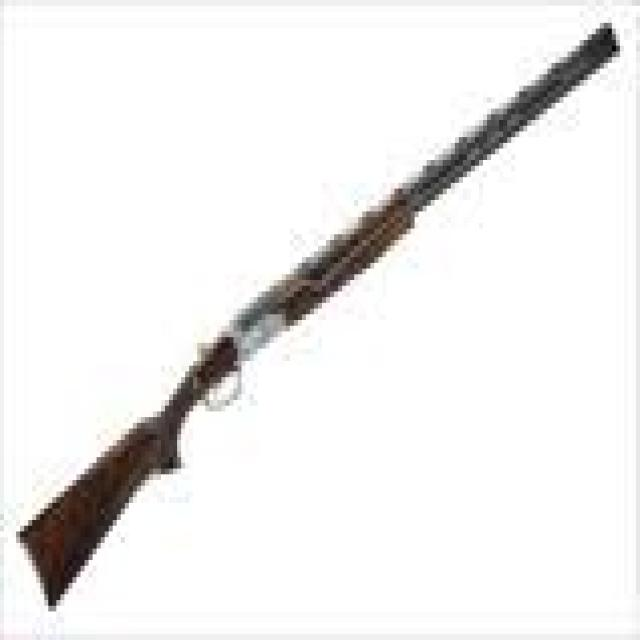rifle: (8, 20, 627, 621)
